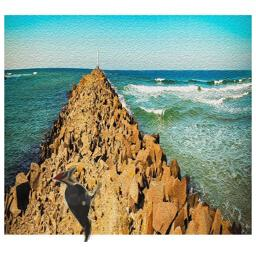Woodpecker: (52, 166, 102, 242)
